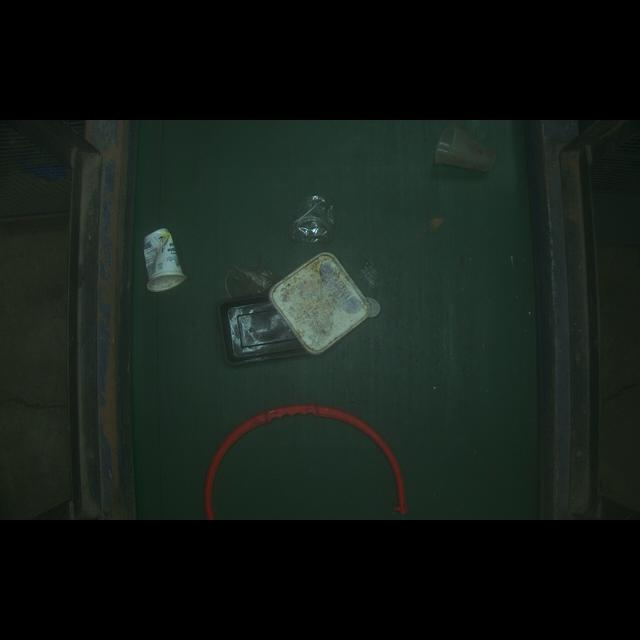mix rigid: (263, 256, 380, 348), (213, 294, 294, 369), (132, 220, 190, 298), (277, 191, 355, 248), (433, 121, 495, 182), (224, 268, 275, 307)
